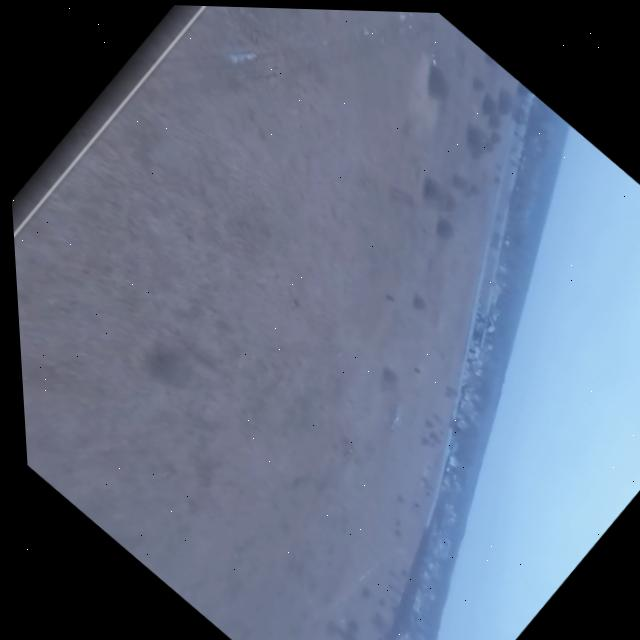planedrone: (377, 397, 420, 439)
